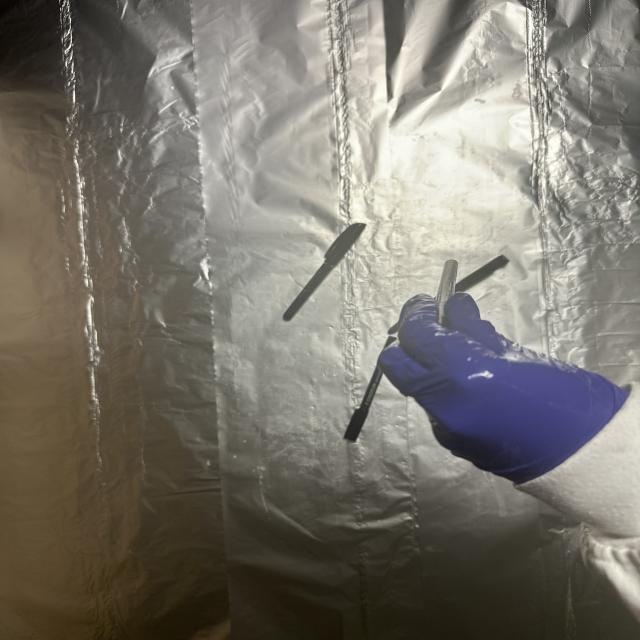gloves_contaminated: (378, 293, 630, 483)
